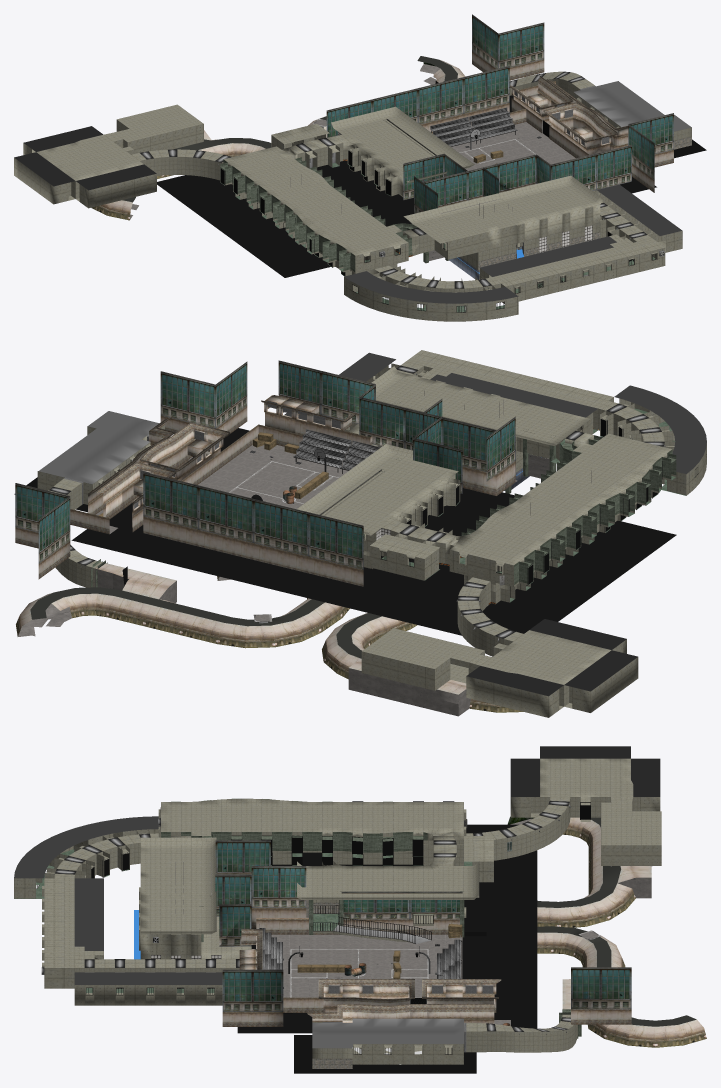
Rendered from rock.fbx.
The picture shows the model from 3 angles, top to bottom: view 1: azimuth 30°, elevation 25°; view 2: azimuth 150°, elevation 25°; view 3: azimuth 270°, elevation 25°; orthographic projection. The views are drawn at different scales.
Visible parts, largest first — view 1: jailhouse.w.003, jailhouse.w.005, jailhouse.w.002, jailhouse.w.000, jailhouse.w.009, jailhouse.w.001, jailhouse.w.004; view 2: jailhouse.w.003, jailhouse.w.005, jailhouse.w.002, jailhouse.w.000, jailhouse.w.001, jailhouse.w.009, jailhouse.w.004; view 3: jailhouse.w.003, jailhouse.w.005, jailhouse.w.000, jailhouse.w.002, jailhouse.w.001, jailhouse.w.009, jailhouse.w.004, jailhouse.w.007.
Boxes of the visible parts, left/top/right/bottom form: jailhouse.w.003: left=14, top=71, right=691, bottom=321; jailhouse.w.005: left=14, top=56, right=706, bottom=303; jailhouse.w.002: left=326, top=14, right=673, bottom=213; jailhouse.w.000: left=91, top=51, right=673, bottom=220; jailhouse.w.009: left=220, top=136, right=691, bottom=271; jailhouse.w.001: left=130, top=64, right=577, bottom=260; jailhouse.w.004: left=220, top=132, right=655, bottom=312; jailhouse.w.003: left=37, top=350, right=706, bottom=717; jailhouse.w.005: left=14, top=352, right=706, bottom=696; jailhouse.w.002: left=15, top=360, right=515, bottom=569; jailhouse.w.000: left=15, top=395, right=523, bottom=712; jailhouse.w.001: left=18, top=390, right=591, bottom=716; jailhouse.w.009: left=91, top=402, right=676, bottom=587; jailhouse.w.004: left=99, top=408, right=686, bottom=602; jailhouse.w.003: left=14, top=758, right=661, bottom=1064; jailhouse.w.005: left=14, top=746, right=696, bottom=1073; jailhouse.w.000: left=222, top=817, right=706, bottom=1047; jailhouse.w.002: left=215, top=840, right=631, bottom=1011; jailhouse.w.001: left=175, top=818, right=651, bottom=1026; jailhouse.w.009: left=161, top=798, right=581, bottom=1068; jailhouse.w.004: left=14, top=835, right=472, bottom=992; jailhouse.w.007: left=333, top=819, right=511, bottom=1025.
Bounding box in the file's own units: 26902 × 3763 × 25737.
Materials: 10 (9 with a texture image).
